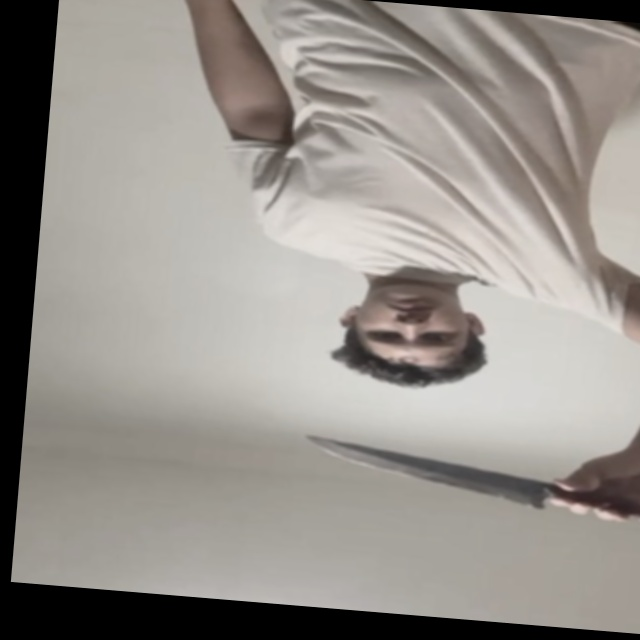Sharp-Object: (299, 438, 550, 509)
